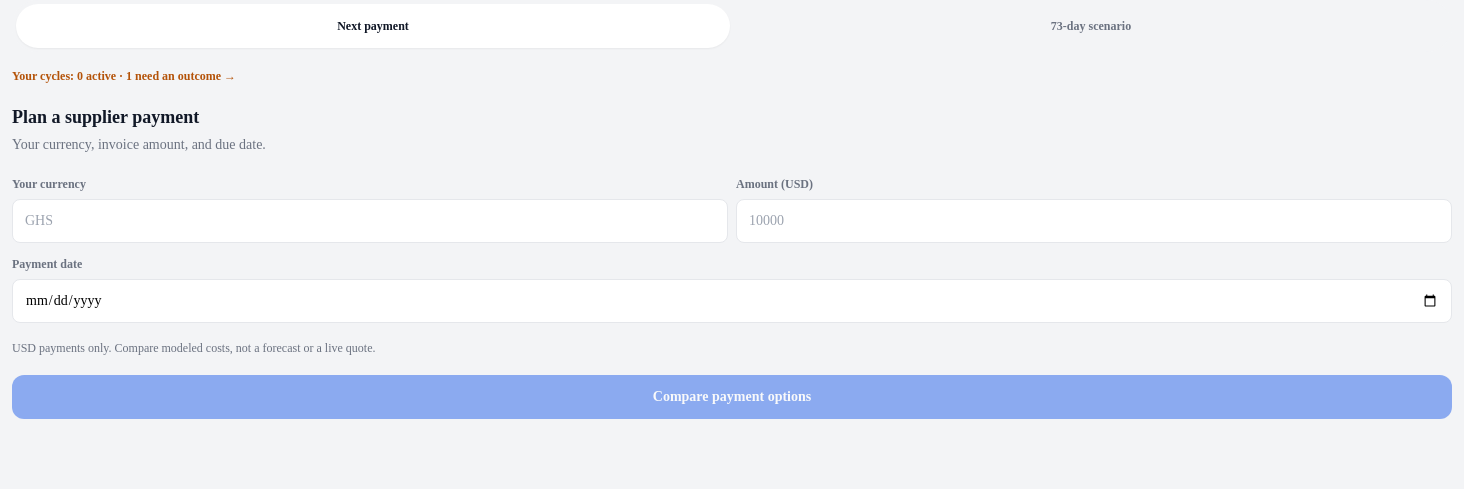
Test case: PaymentCycleReport — report views › a due cycle puts the amber entry directly under the mode control
This screenshot has width=1464, height=489.
Note: It is a doorway into the cycles view, which holds the due form.
What coordinates should you click on to do the following:
click the button "Your cycles: 0 active · 1 need an outcome →"
I would click on:
 (124, 76)
Its box is [12, 68, 236, 84].
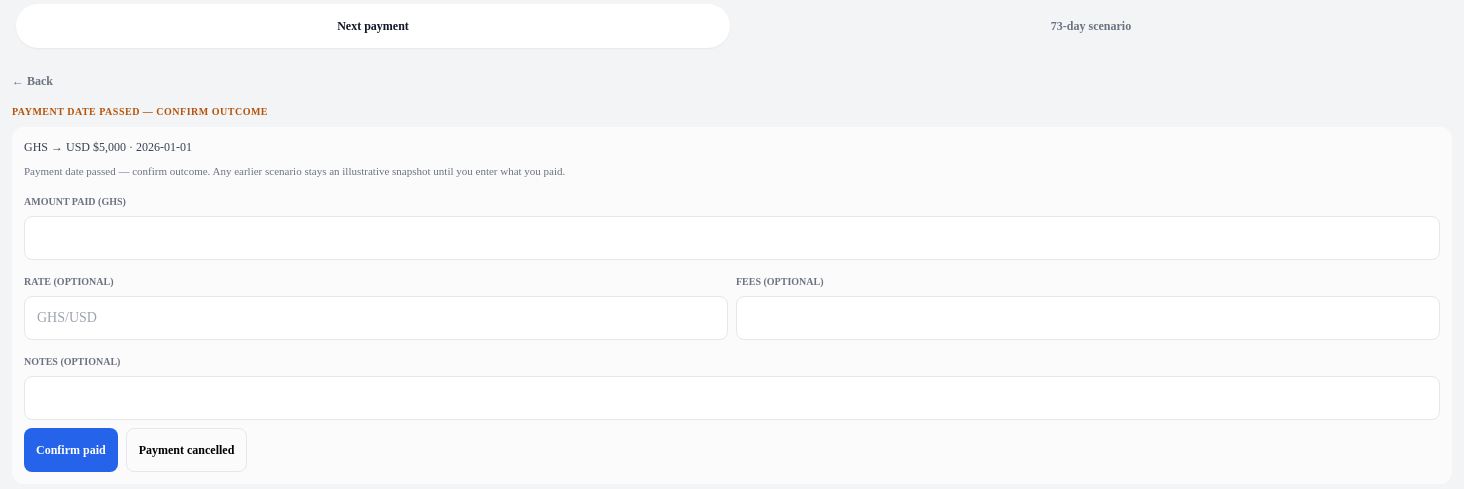
Now the text "Payment date passed — confirm outcome" is shown, box [12, 106, 268, 117]
